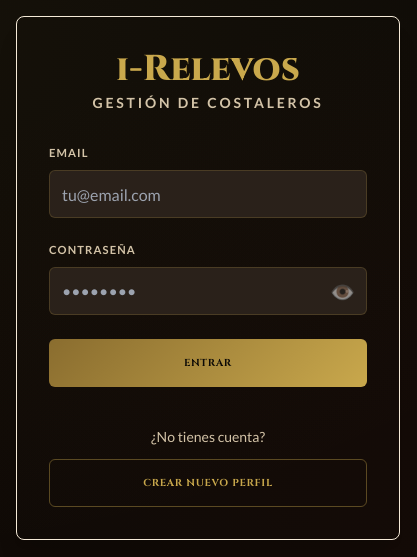
Scenario: LoginPage › disables button only when loading, not based on rate-limit state
The width and height of the screenshot is (417, 557).
Type "test@test.com" into the field labelled "Email" at (208, 194), box 49,170 -> 367,218
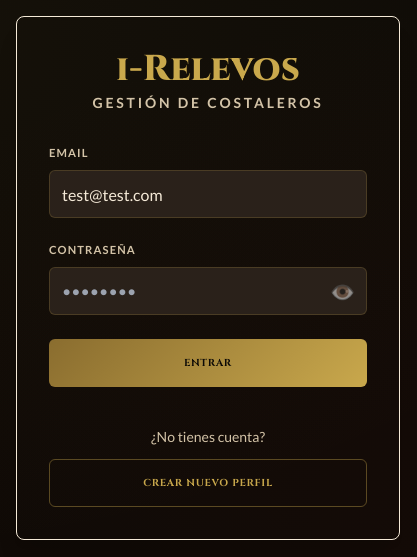
Type "password123" into the password field labelled "Contraseña" at (208, 291), box 49,267 -> 367,315
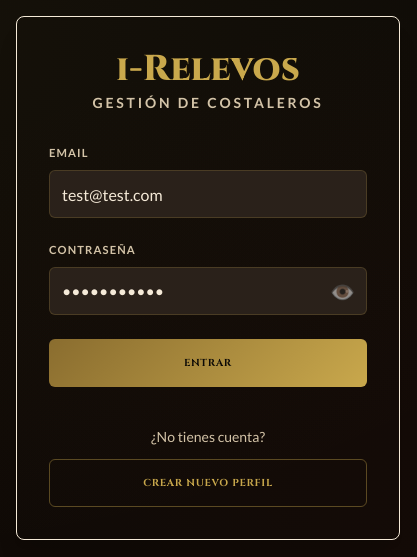
Click the button "ENTRAR" at (208, 363), box 49,339 -> 367,387
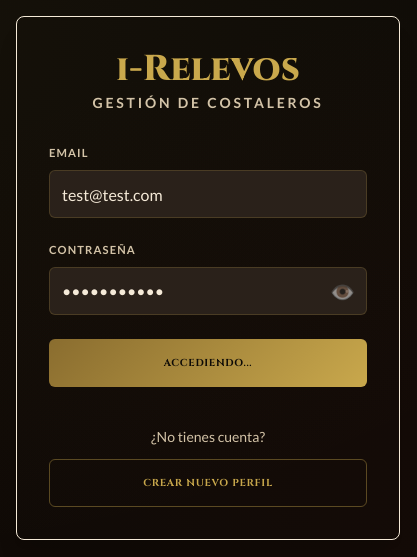
Expected: the button named "entrar" is disabled, 49,339 -> 367,387
Expected: the button named "entrar" shows "ACCEDIENDO", 49,339 -> 367,387
